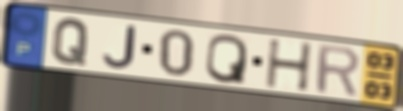0: (157, 28, 199, 78)
H: (265, 38, 315, 94)
J: (100, 24, 138, 71)
Q: (203, 33, 250, 86), (50, 17, 92, 68)
R: (314, 43, 362, 99)
